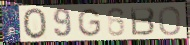6: (106, 7, 126, 38)
9: (51, 7, 73, 40)
B: (129, 6, 156, 37)
G: (76, 7, 103, 38)
O: (22, 7, 49, 41), (157, 5, 182, 37)
